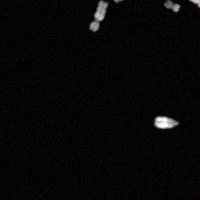chromosome: (90, 0, 107, 32), (155, 116, 179, 129), (163, 0, 179, 11), (182, 0, 200, 9), (109, 0, 122, 3)
